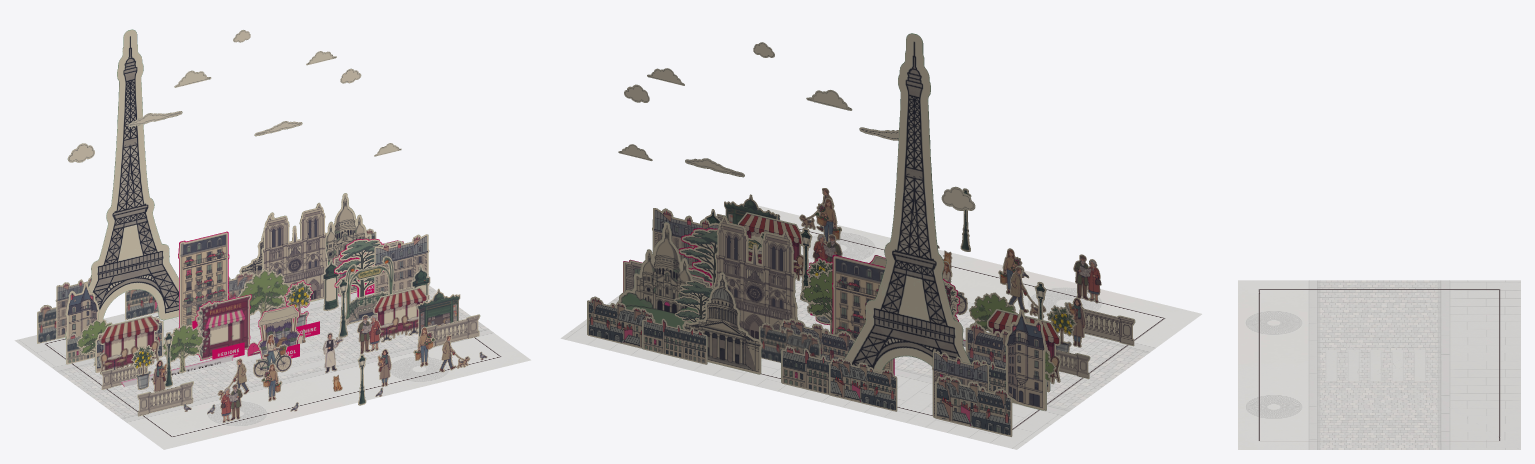
The model's file is paris-ar.glb.
3 renders of one model, left to right at view 1: azimuth 30°, elevation 25°; view 2: azimuth 150°, elevation 25°; view 3: azimuth 270°, elevation 25°, orthographic. The views are drawn at different scales.
Parts seen in each view (by area): view 1: card, far-01_03, mid-02_23, mid-01_21, near-01_33, near-05_32, mid-04_26, near-05_43, near-04_37, far-02_07, mid-08_22, near-02_34 (+18 smaller); view 2: card, far-01_03, mid-02_23, far-02_07, far-03_06, far-04_01, mid-06_19, mid-01_21, far-04_15, far-04_08, far-05_09, far-05_04 (+18 smaller); view 3: card.
Boxes of the visible parts, left/top/right/bottom form: card: left=14, top=285, right=530, bottom=449; far-01_03: left=65, top=29, right=178, bottom=339; mid-02_23: left=261, top=202, right=327, bottom=310; mid-01_21: left=178, top=231, right=229, bottom=328; near-01_33: left=195, top=294, right=251, bottom=360; near-05_32: left=99, top=315, right=159, bottom=374; mid-04_26: left=373, top=234, right=429, bottom=293; near-05_43: left=373, top=287, right=427, bottom=342; near-04_37: left=345, top=256, right=394, bottom=325; far-02_07: left=326, top=193, right=371, bottom=265; mid-08_22: left=238, top=269, right=289, bottom=329; near-02_34: left=257, top=304, right=300, bottom=358; card: left=560, top=205, right=1201, bottom=449; far-01_03: left=844, top=33, right=970, bottom=372; mid-02_23: left=713, top=215, right=797, bottom=339; far-02_07: left=618, top=222, right=698, bottom=328; far-03_06: left=682, top=272, right=762, bottom=374; far-04_01: left=935, top=375, right=1012, bottom=436; mid-06_19: left=1005, top=309, right=1046, bottom=410; mid-01_21: left=832, top=254, right=894, bottom=375; far-04_15: left=829, top=357, right=897, bottom=411; far-04_08: left=587, top=296, right=655, bottom=348; far-05_09: left=642, top=316, right=707, bottom=364; far-05_04: left=781, top=345, right=830, bottom=394; card: left=1238, top=280, right=1520, bottom=449.
Size of the model in its own units: 0.32 by 0.2622 by 0.2311.
74 materials, 74 textured.
